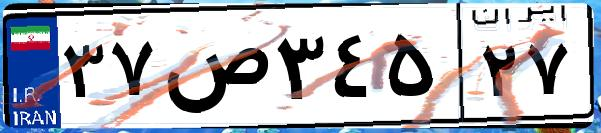2: (475, 38, 525, 113)
3: (270, 28, 330, 110), (57, 26, 110, 100)
4: (330, 28, 385, 110)
5: (385, 28, 445, 110)
7: (525, 38, 570, 115), (110, 28, 158, 98)
ص: (158, 20, 270, 120)
